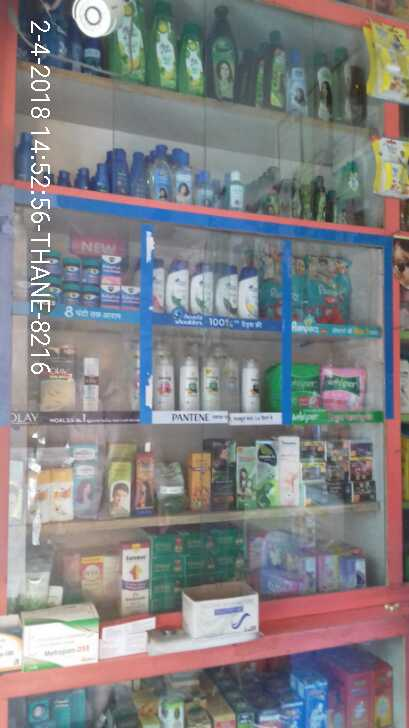vicks: (38, 241, 143, 310)
